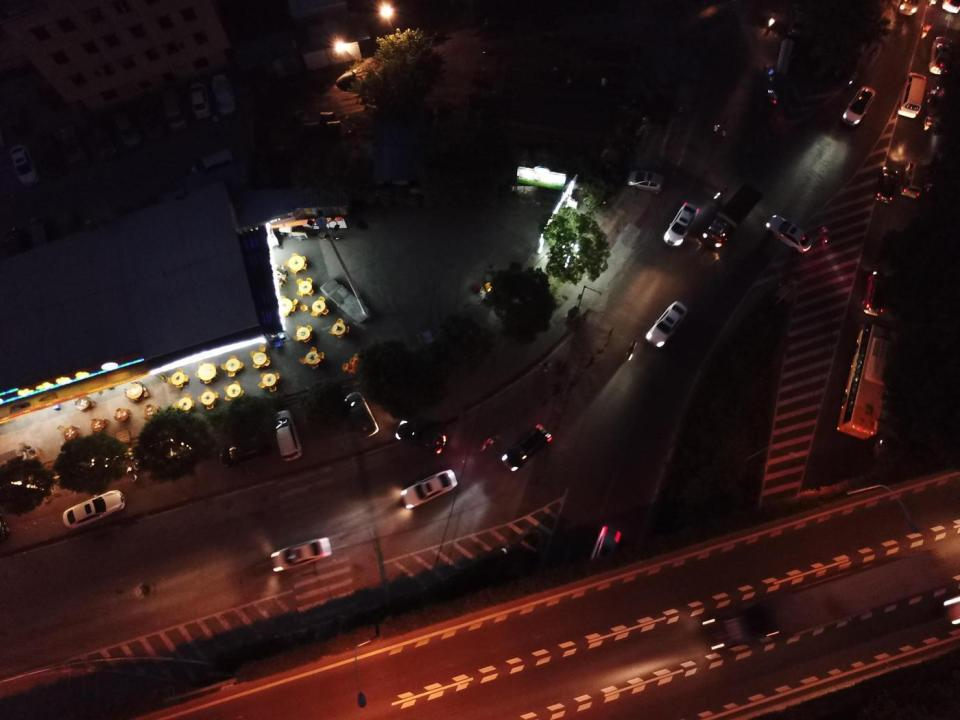bus: (836, 324, 897, 440)
car: (700, 602, 781, 654), (62, 489, 126, 529), (501, 424, 553, 471), (270, 535, 332, 574), (401, 468, 458, 509), (646, 300, 688, 350), (765, 214, 814, 255), (395, 419, 447, 455), (663, 200, 701, 248), (588, 525, 623, 572), (271, 410, 302, 461), (859, 272, 890, 318), (220, 437, 264, 468), (842, 86, 876, 126), (922, 86, 949, 132), (928, 36, 954, 76), (626, 170, 665, 194), (875, 166, 898, 204)
truck: (701, 182, 764, 249)
van: (343, 391, 379, 439), (898, 72, 928, 119), (900, 159, 926, 200)
